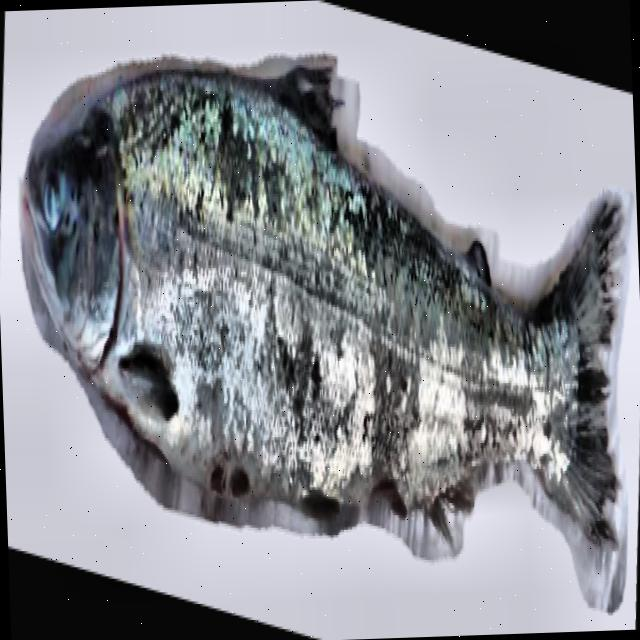mild_red: (106, 74, 615, 534)
